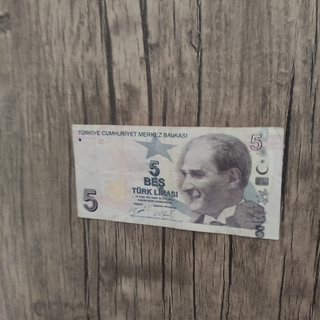5TLFront: (70, 123, 284, 241)
